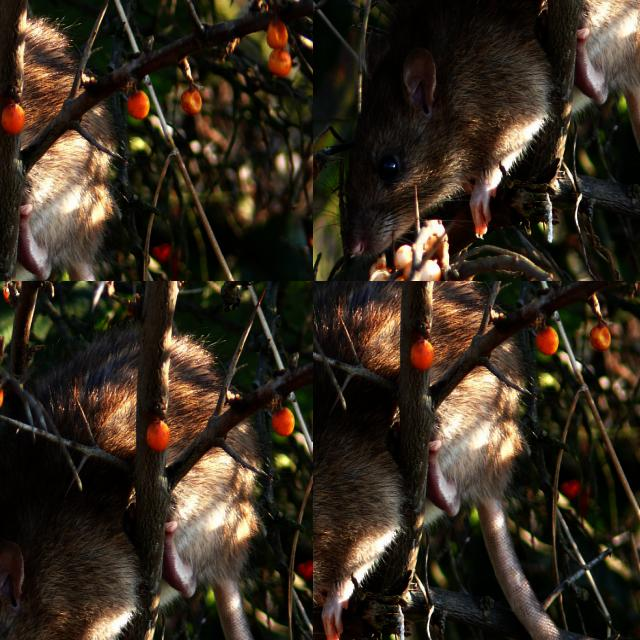rat: (313, 281, 519, 640), (0, 132, 65, 281)
